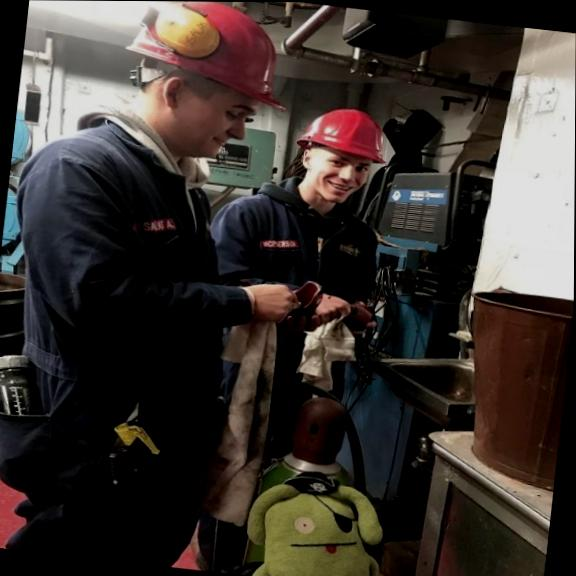no_safety_vest: (0, 112, 262, 432), (192, 170, 399, 380)
